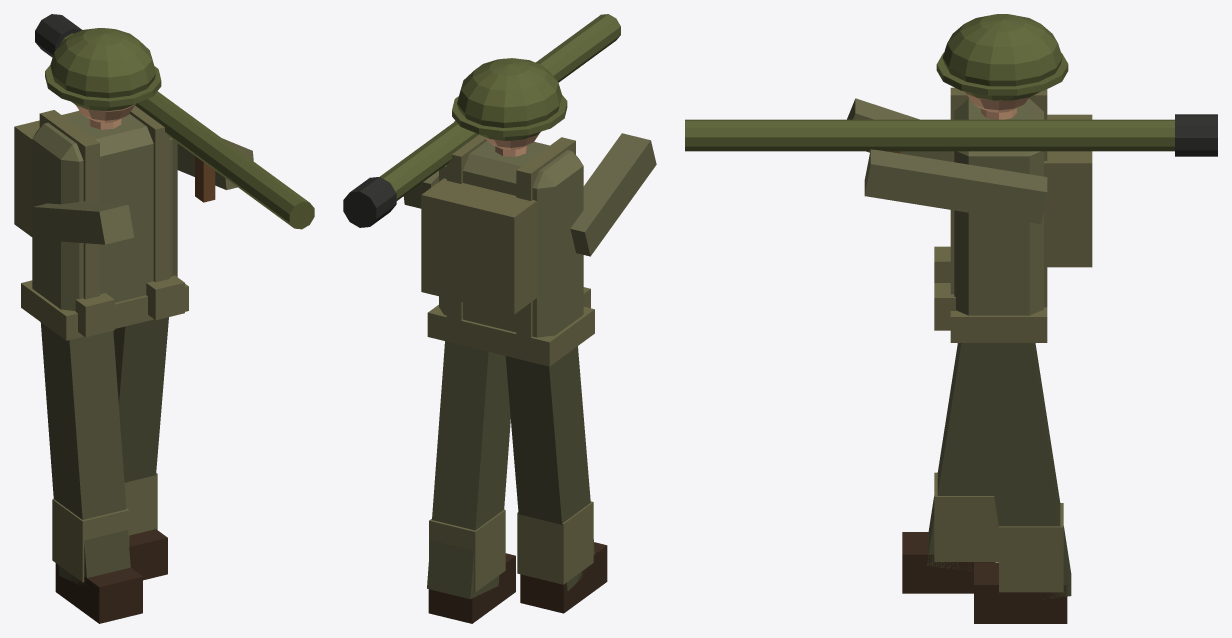
The model's file is soldado_bazuca_simples.glb.
3 views of the same model, side by side, from view 1: azimuth 30°, elevation 25°; view 2: azimuth 150°, elevation 25°; view 3: azimuth 270°, elevation 25° (orthographic). The views are drawn at different scales.
Visible parts, largest first — view 1: Soldado.001; view 2: Soldado.001; view 3: Soldado.001.
Boxes of the visible parts, <box> form: Soldado.001: <box>14,14,314,623</box>; Soldado.001: <box>343,14,656,623</box>; Soldado.001: <box>685,14,1217,623</box>.
Size of the model in its own units: 0.55 by 1.78 by 1.49.
